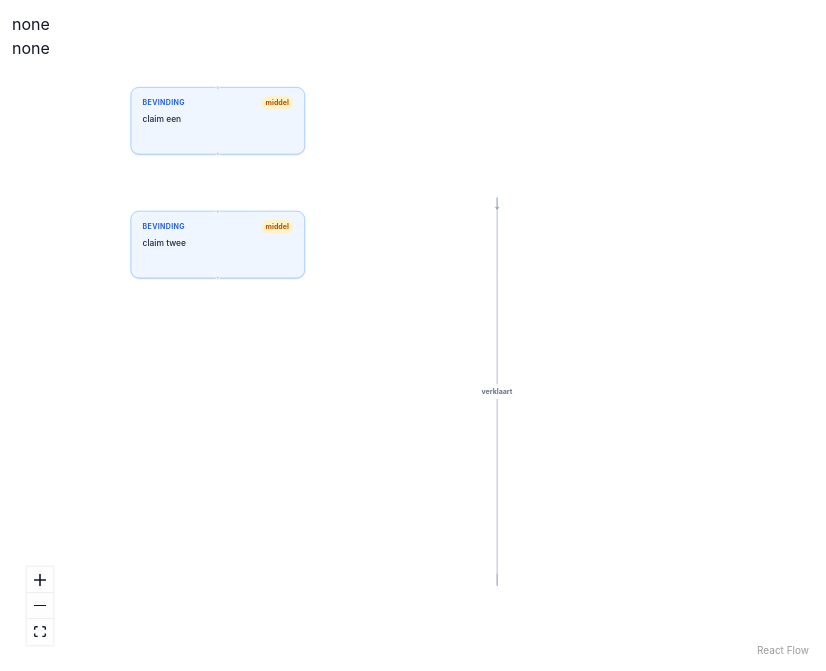
Test: GraphView — selection switching › clicking node A then node B switches the selection to B
The image size is (826, 671).
Click the element with test id "graph-node-n1". click: {"x": 218, "y": 121}
box: 131,87 -> 305,154
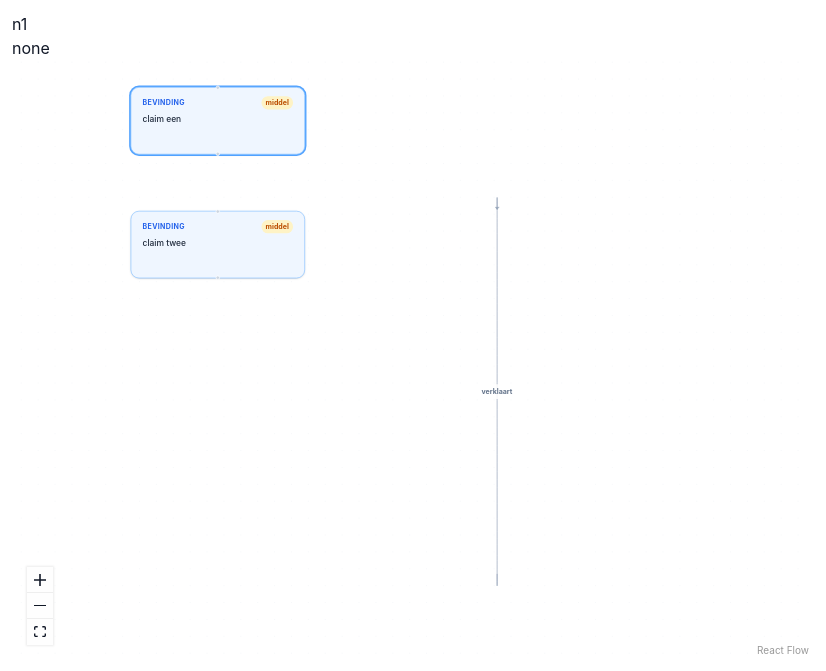
expect the text with test id "selected-probe" reads "n1": met, box 12,14 -> 27,34
Click the element with test id "graph-node-n2". click: {"x": 218, "y": 245}
box: 131,211 -> 305,278
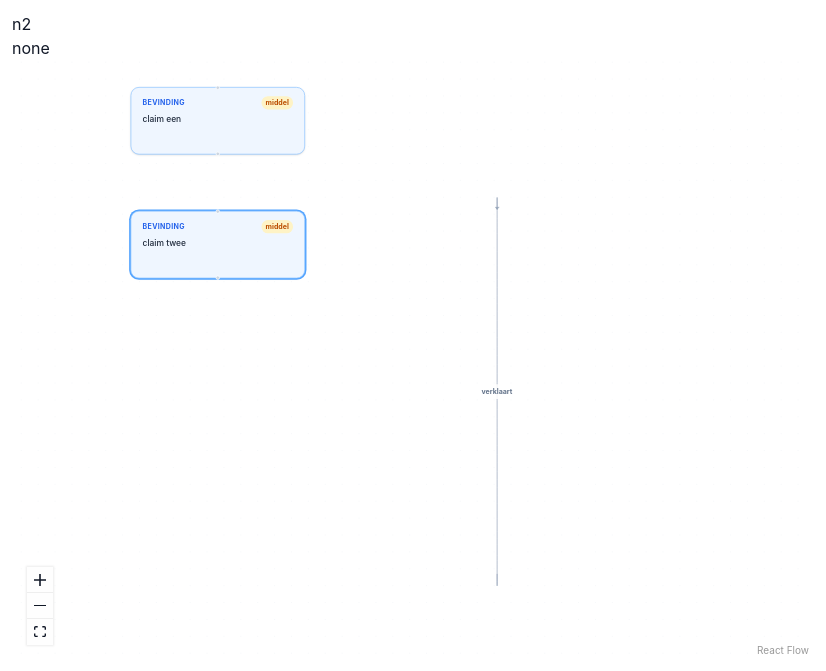
expect the text with test id "selected-probe" reads "n2": met, box 12,14 -> 31,34
